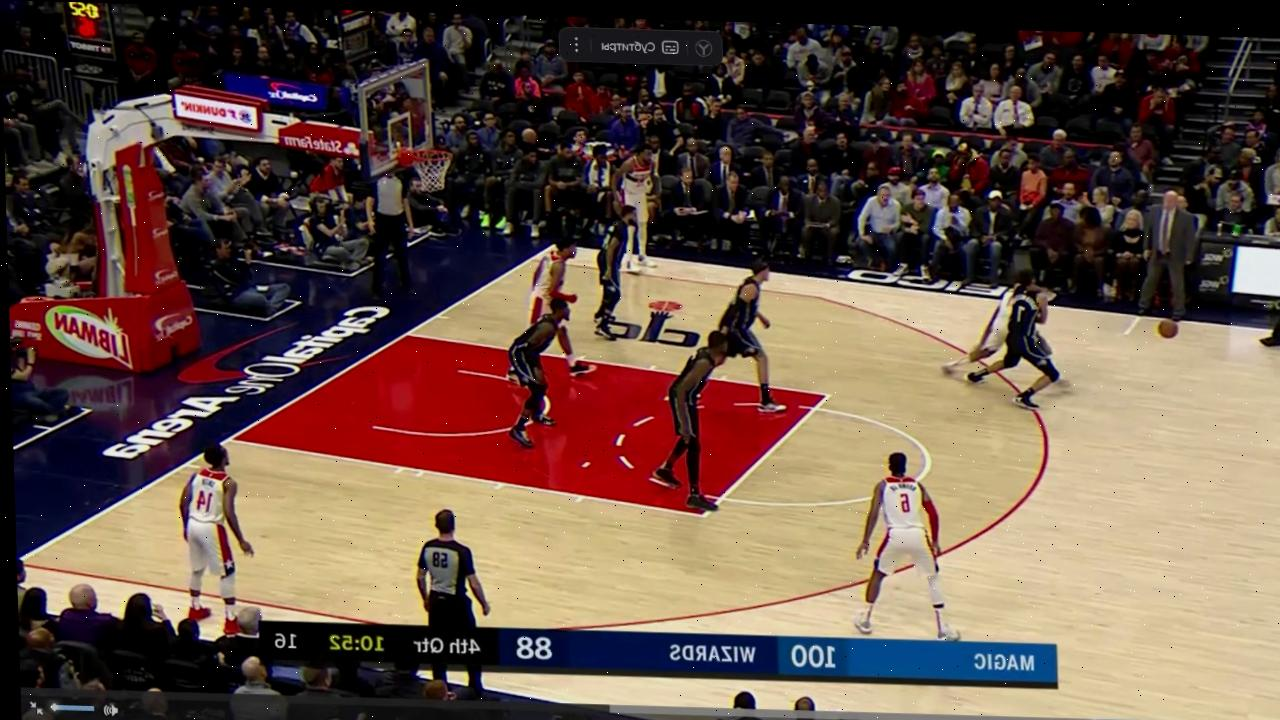foul: (934, 272, 1081, 407)
